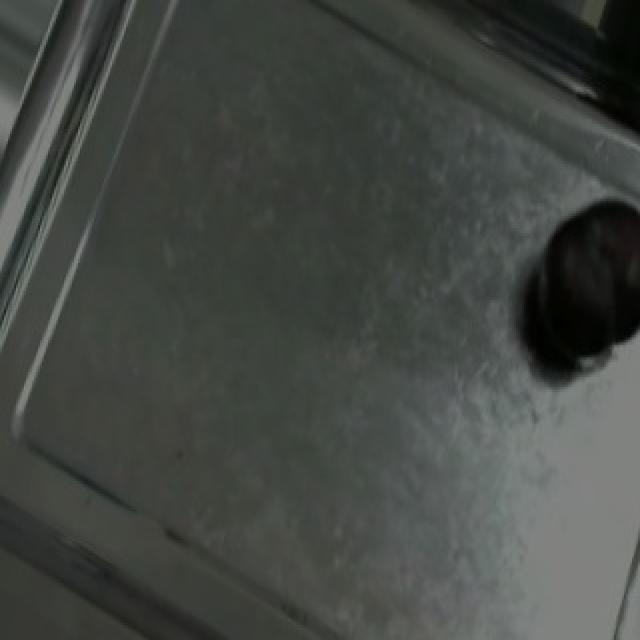Fruit: (510, 181, 640, 382)
